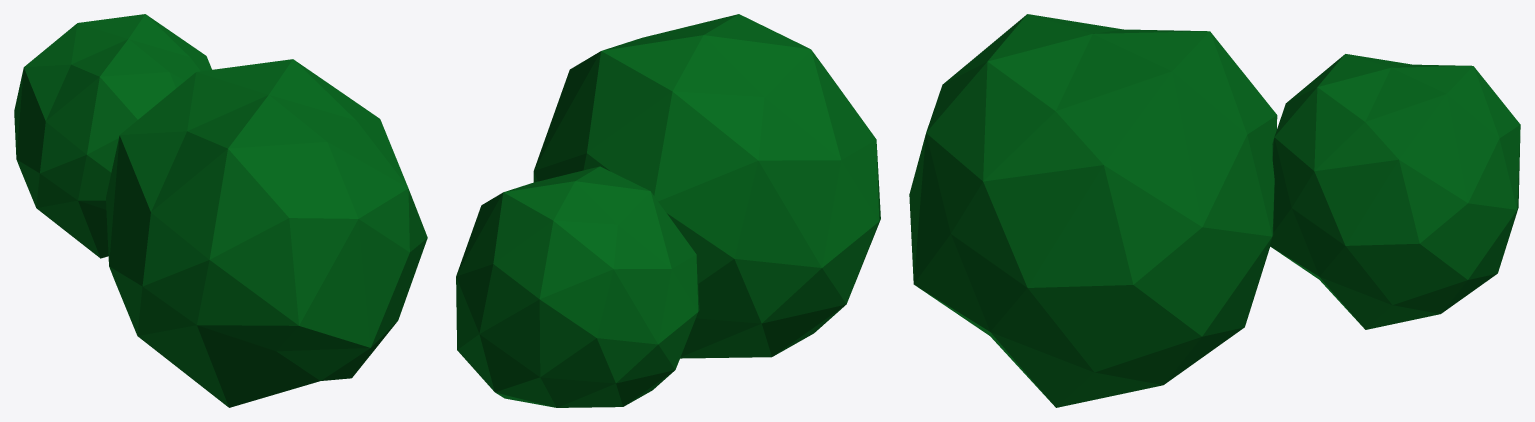
The model's file is bush_bubbly_01_model.glb.
3 renders of one model, left to right at view 1: azimuth 30°, elevation 25°; view 2: azimuth 150°, elevation 25°; view 3: azimuth 270°, elevation 25°, orthographic. The views are drawn at different scales.
Visible parts, largest first — view 1: Icosphere.017; view 2: Icosphere.017; view 3: Icosphere.017.
Boxes of the visible parts, bbox=[...] form: Icosphere.017: bbox=[14, 14, 427, 407]; Icosphere.017: bbox=[456, 14, 880, 407]; Icosphere.017: bbox=[909, 14, 1520, 407].
Size of the model in its own units: 1.5 by 1.49 by 2.46.
